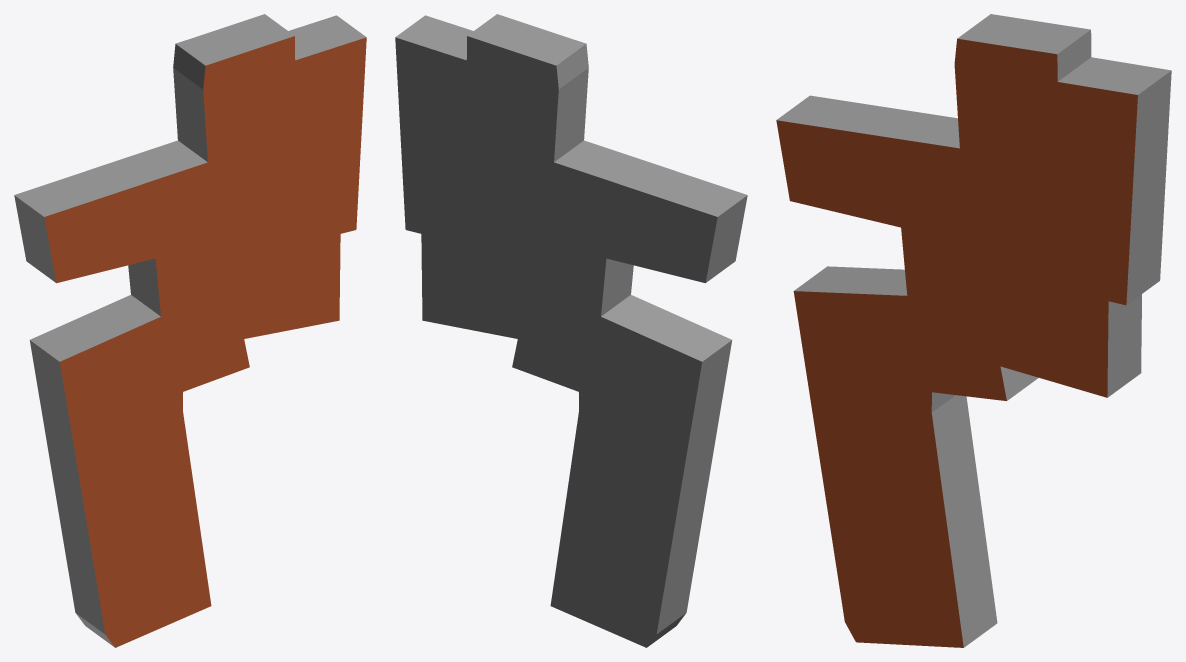
The model's file is construction_5360_assumed_A_Casa_h6m.obj.
3 renders of one model, left to right at view 1: azimuth 30°, elevation 25°; view 2: azimuth 150°, elevation 25°; view 3: azimuth 330°, elevation 25°, orthographic. The views are drawn at different scales.
Parts seen in each view (by area): view 1: construction_5360_assumed_A_Casa; view 2: construction_5360_assumed_A_Casa; view 3: construction_5360_assumed_A_Casa.
Part boxes in pixels (left/top/right/bottom): construction_5360_assumed_A_Casa: left=14, top=14, right=366, bottom=647; construction_5360_assumed_A_Casa: left=395, top=14, right=747, bottom=647; construction_5360_assumed_A_Casa: left=776, top=14, right=1171, bottom=647.
Bounding box in the file's own units: 37.17 × 62.57 × 6.
